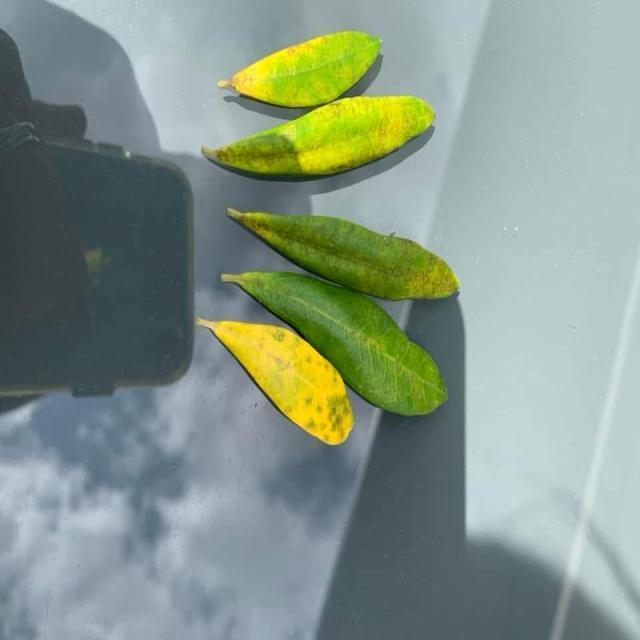OlivePeacockSpot: (227, 208, 458, 300), (198, 320, 353, 444), (202, 96, 434, 177), (218, 31, 382, 109)
